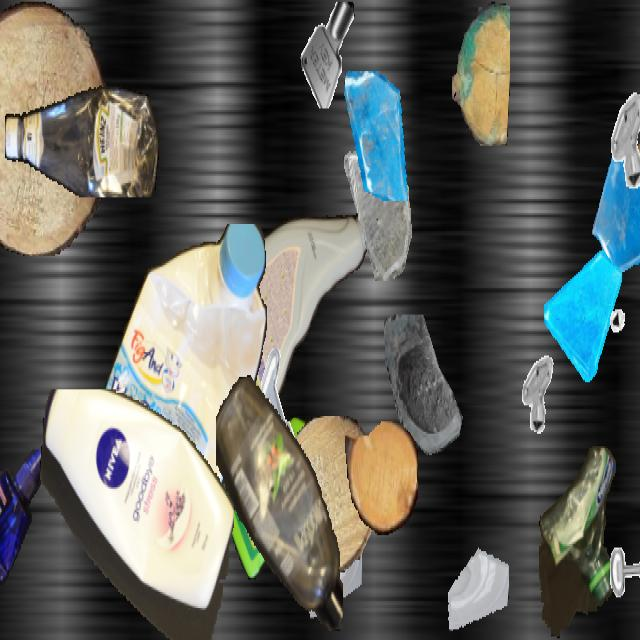glass: (381, 314, 475, 482), (544, 244, 622, 382), (341, 149, 415, 281), (341, 71, 413, 199), (591, 135, 640, 292), (103, 354, 165, 464), (447, 526, 509, 636), (305, 517, 361, 617), (0, 51, 19, 201), (639, 236, 640, 400)
metal: (249, 345, 311, 455), (299, 2, 359, 108), (597, 89, 640, 192), (511, 348, 559, 434), (604, 539, 640, 638), (607, 277, 640, 345)
plastic: (84, 224, 270, 590), (38, 390, 234, 638), (196, 203, 370, 430), (216, 372, 342, 638), (5, 76, 159, 198), (222, 416, 332, 580), (539, 443, 617, 638), (0, 450, 52, 638)
wood: (0, 2, 106, 254), (279, 416, 377, 572), (452, 2, 510, 144), (345, 421, 417, 535), (635, 62, 640, 204)
